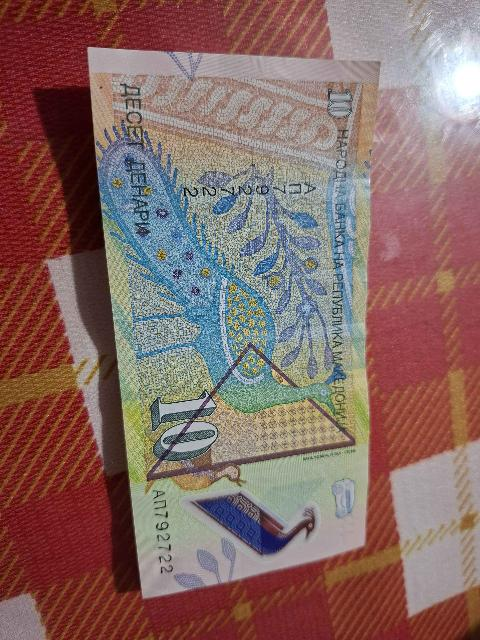10_note: (85, 51, 380, 595)
